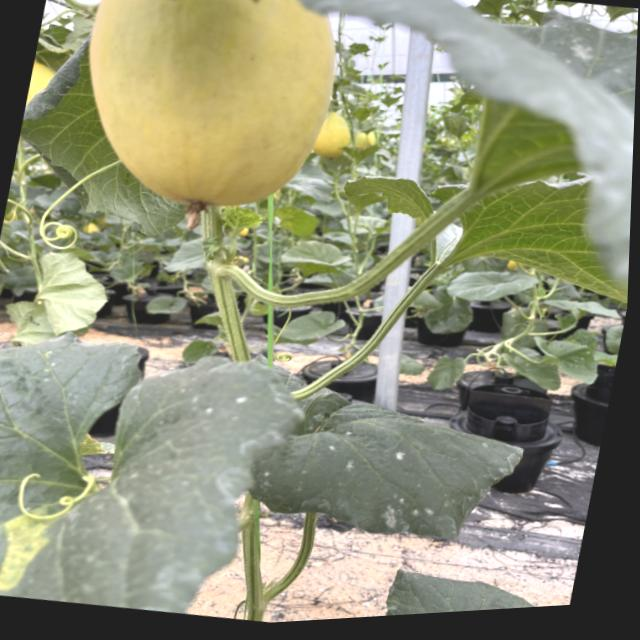downy mildew: (379, 561, 573, 616)
healthy: (448, 179, 610, 297), (318, 157, 450, 234)
powdery mildew: (236, 373, 537, 570)
